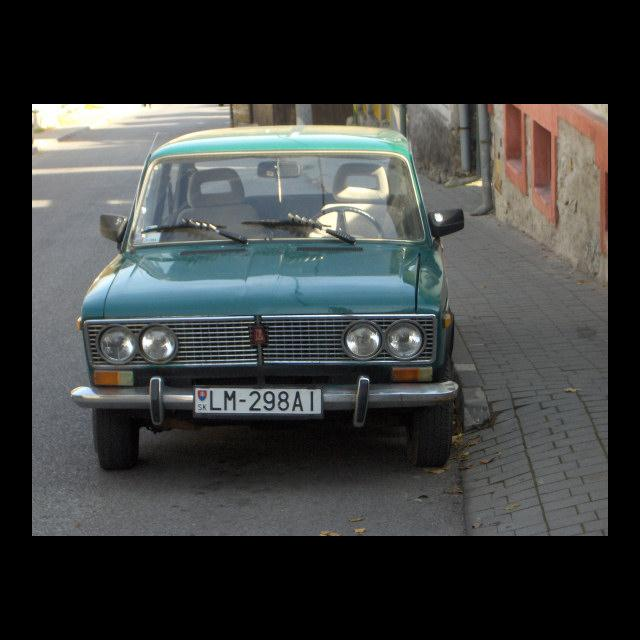Plate: (193, 384, 324, 417)
